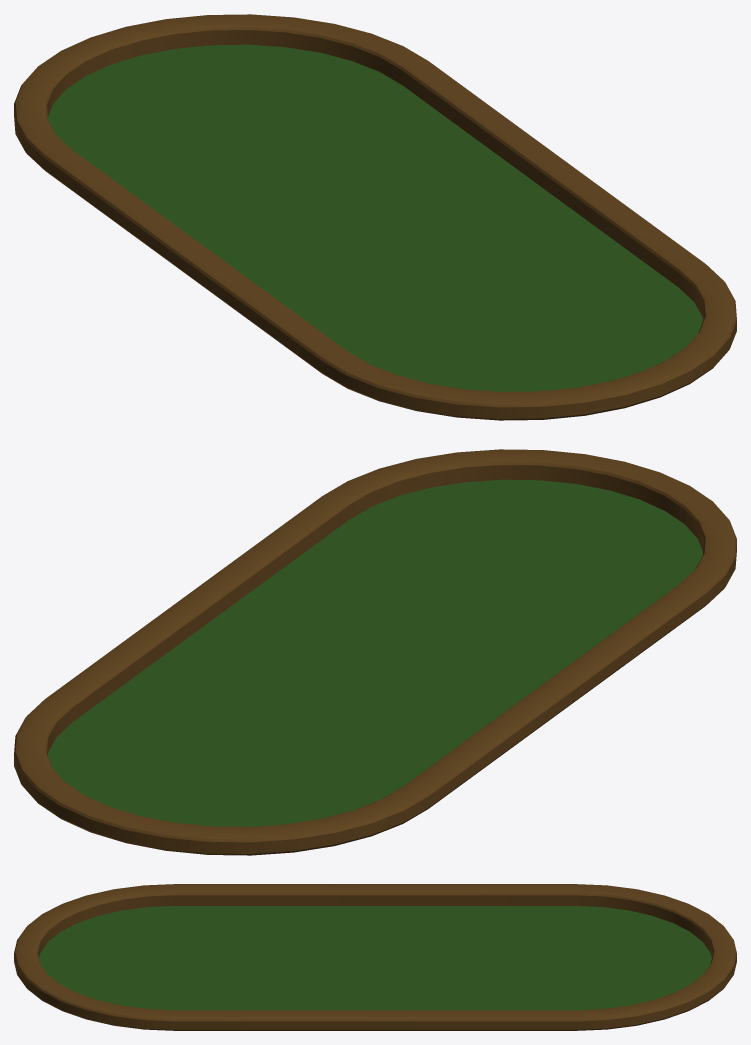
File: SM_Table_Long_Medium.fbx
3 renders of one model, top to bottom at view 1: azimuth 30°, elevation 25°; view 2: azimuth 150°, elevation 25°; view 3: azimuth 270°, elevation 25°, orthographic. The views are drawn at different scales.
Parts seen in each view (by area): view 1: SM_Table_Long_Medium; view 2: SM_Table_Long_Medium; view 3: SM_Table_Long_Medium.
Part boxes in pixels (x1=…): SM_Table_Long_Medium: x1=14, y1=14, x2=736, y2=420; SM_Table_Long_Medium: x1=14, y1=449, x2=736, y2=855; SM_Table_Long_Medium: x1=14, y1=884, x2=736, y2=1030.
Bounding box in the file's own units: 123 × 5.48 × 277.
